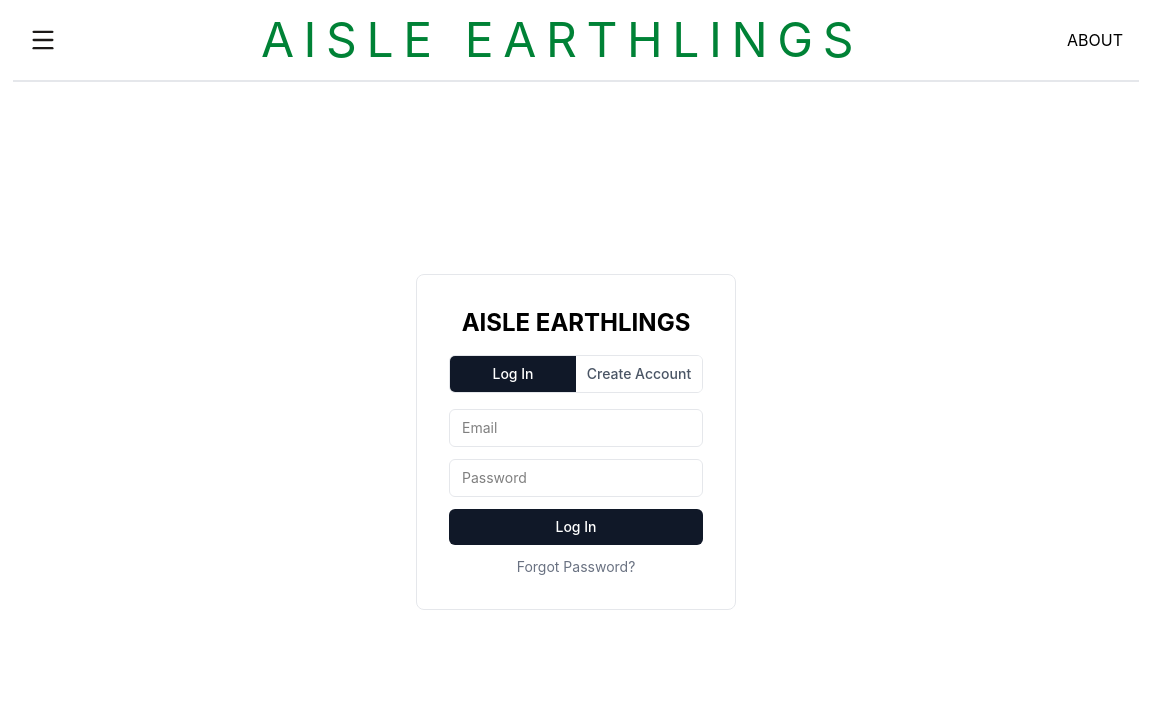
Scenario: Authentication › switches between Log In and Create Account tabs
This screenshot has width=1152, height=720.
Expected: the button with test id "submit-btn" reads "Log In", top-left (449, 509), bottom-right (703, 545)
Click the button with test id "tab-signup" at [639, 374], box top-left (576, 356), bottom-right (702, 392)
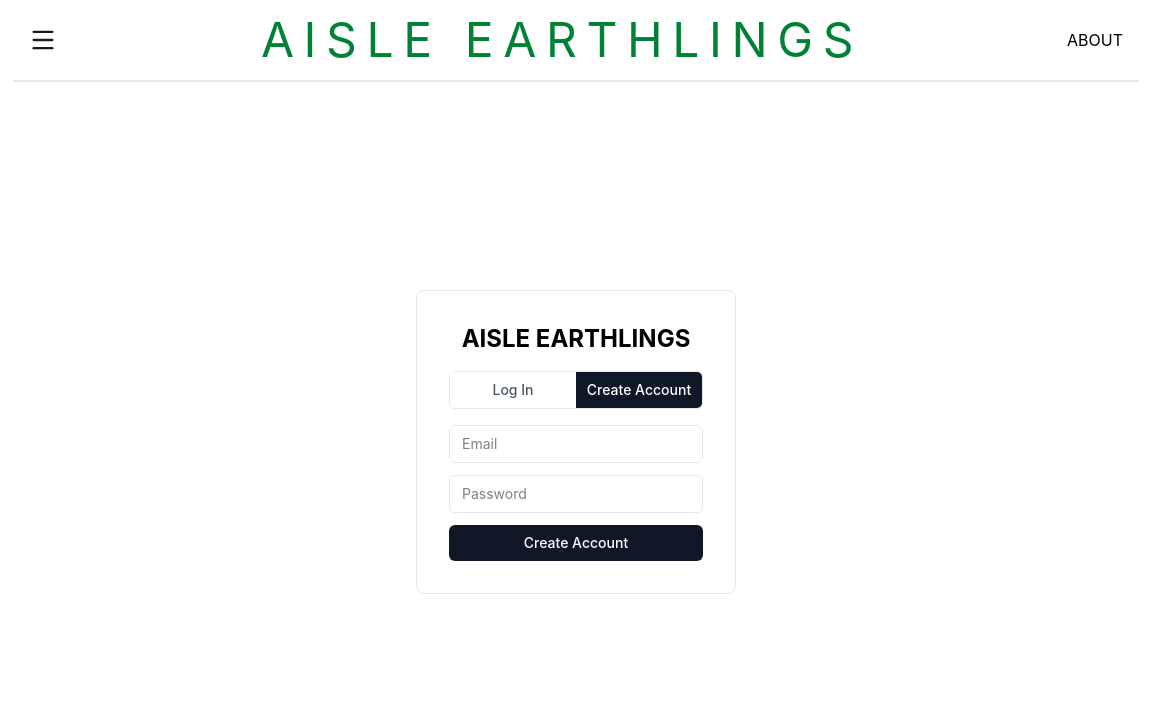
Result: the button with test id "submit-btn" reads "Create Account" at top-left (449, 525), bottom-right (703, 561)
Click the button with test id "tab-login" at [513, 390], box top-left (450, 372), bottom-right (576, 408)
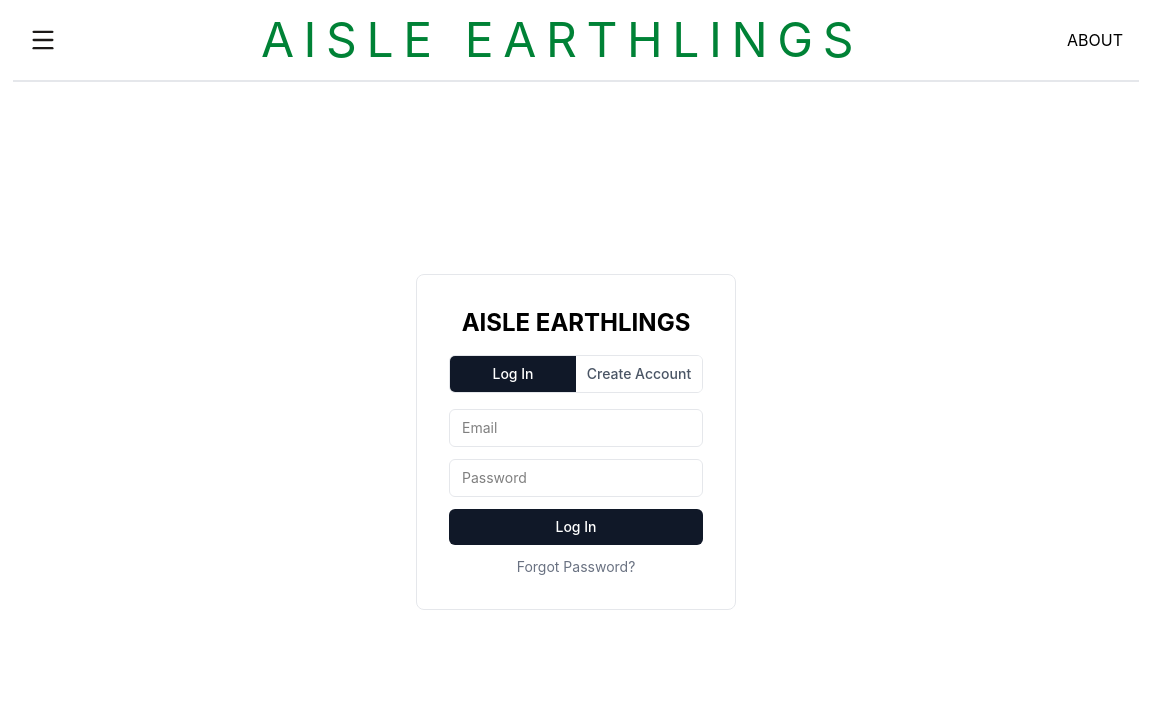
Result: the button with test id "submit-btn" reads "Log In" at top-left (449, 509), bottom-right (703, 545)
